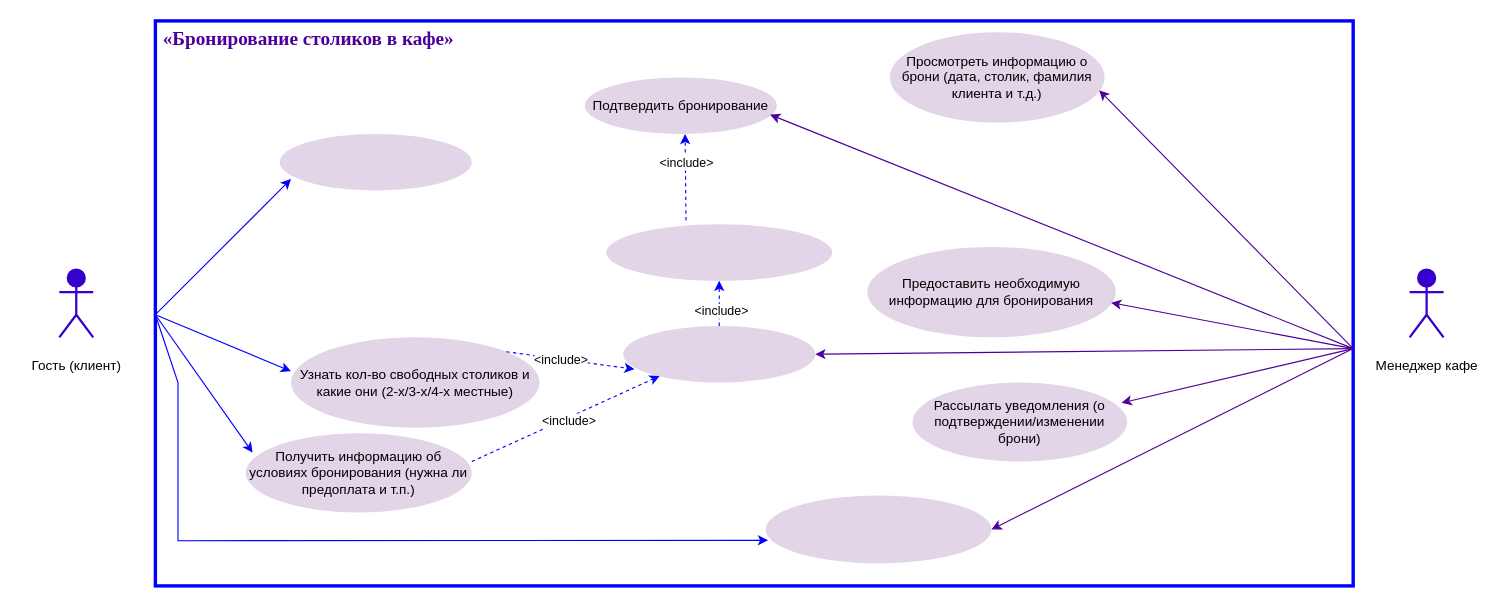
Image size: 1507x615. Some labels were removed from this diagram. The shapes that lost their labels are listed below. From the top down, each one's box as (x1, y1, x2, y2) in pixels, then its label:
(279, 133, 471, 190): Узнать время работы кафе
(606, 224, 832, 280): Получить смс/звонок о подтверждении бронирования
(623, 325, 815, 382): Забронировать столик
(765, 495, 991, 563): Отменить/перенести бронирование
